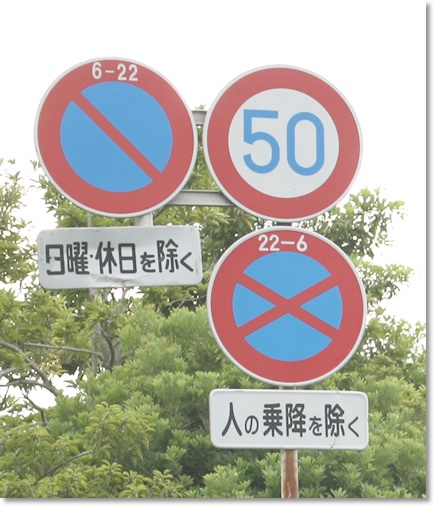Prohibition_sign: (186, 220, 380, 401), (25, 54, 209, 219)
